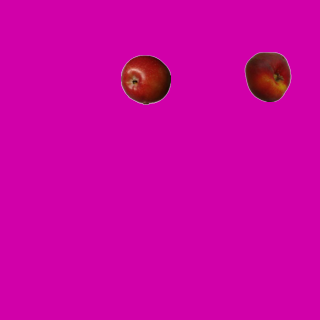Apple Braeburn: (120, 54, 170, 104)
Nectarine Flat: (242, 51, 292, 101)
